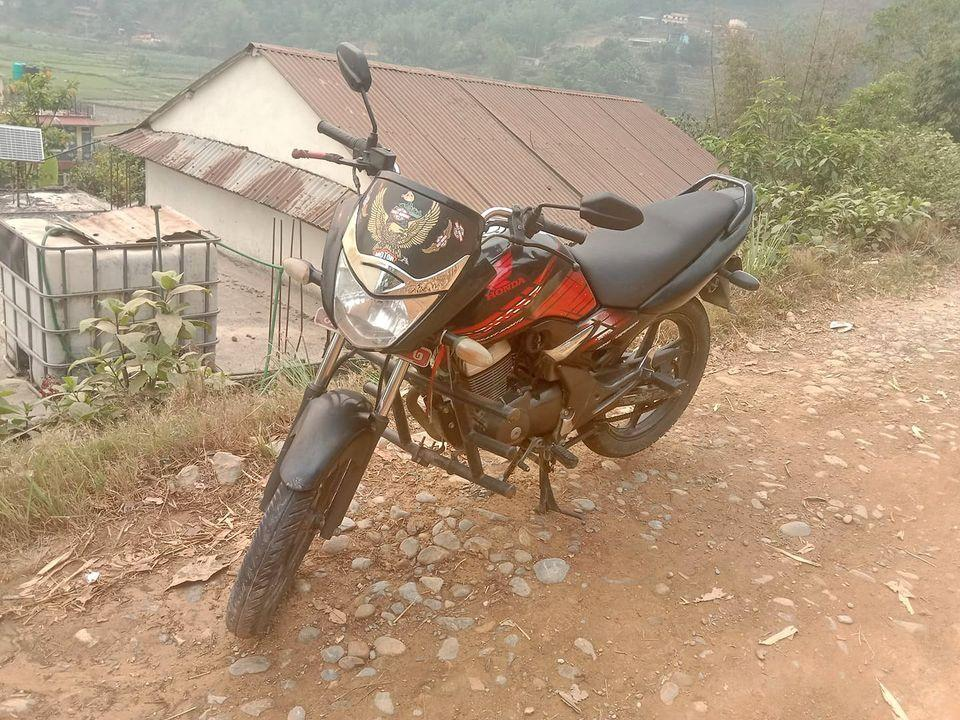bike: (214, 39, 774, 650)
